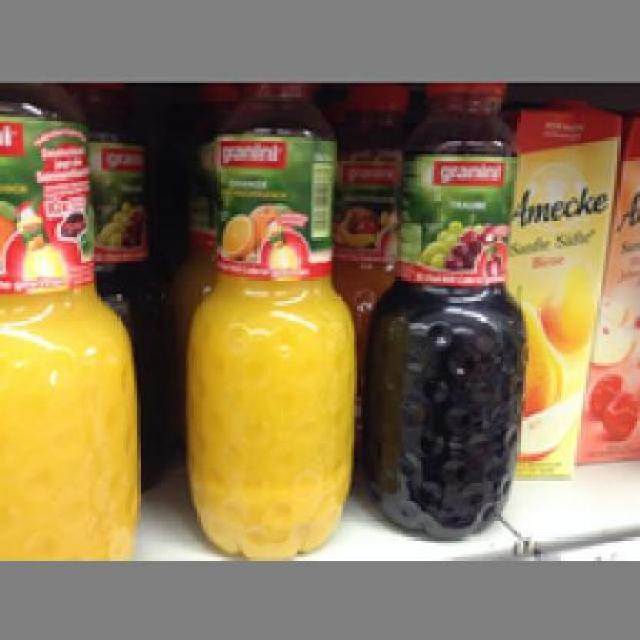Juice: (180, 82, 351, 555), (366, 82, 526, 538), (0, 79, 137, 555)
